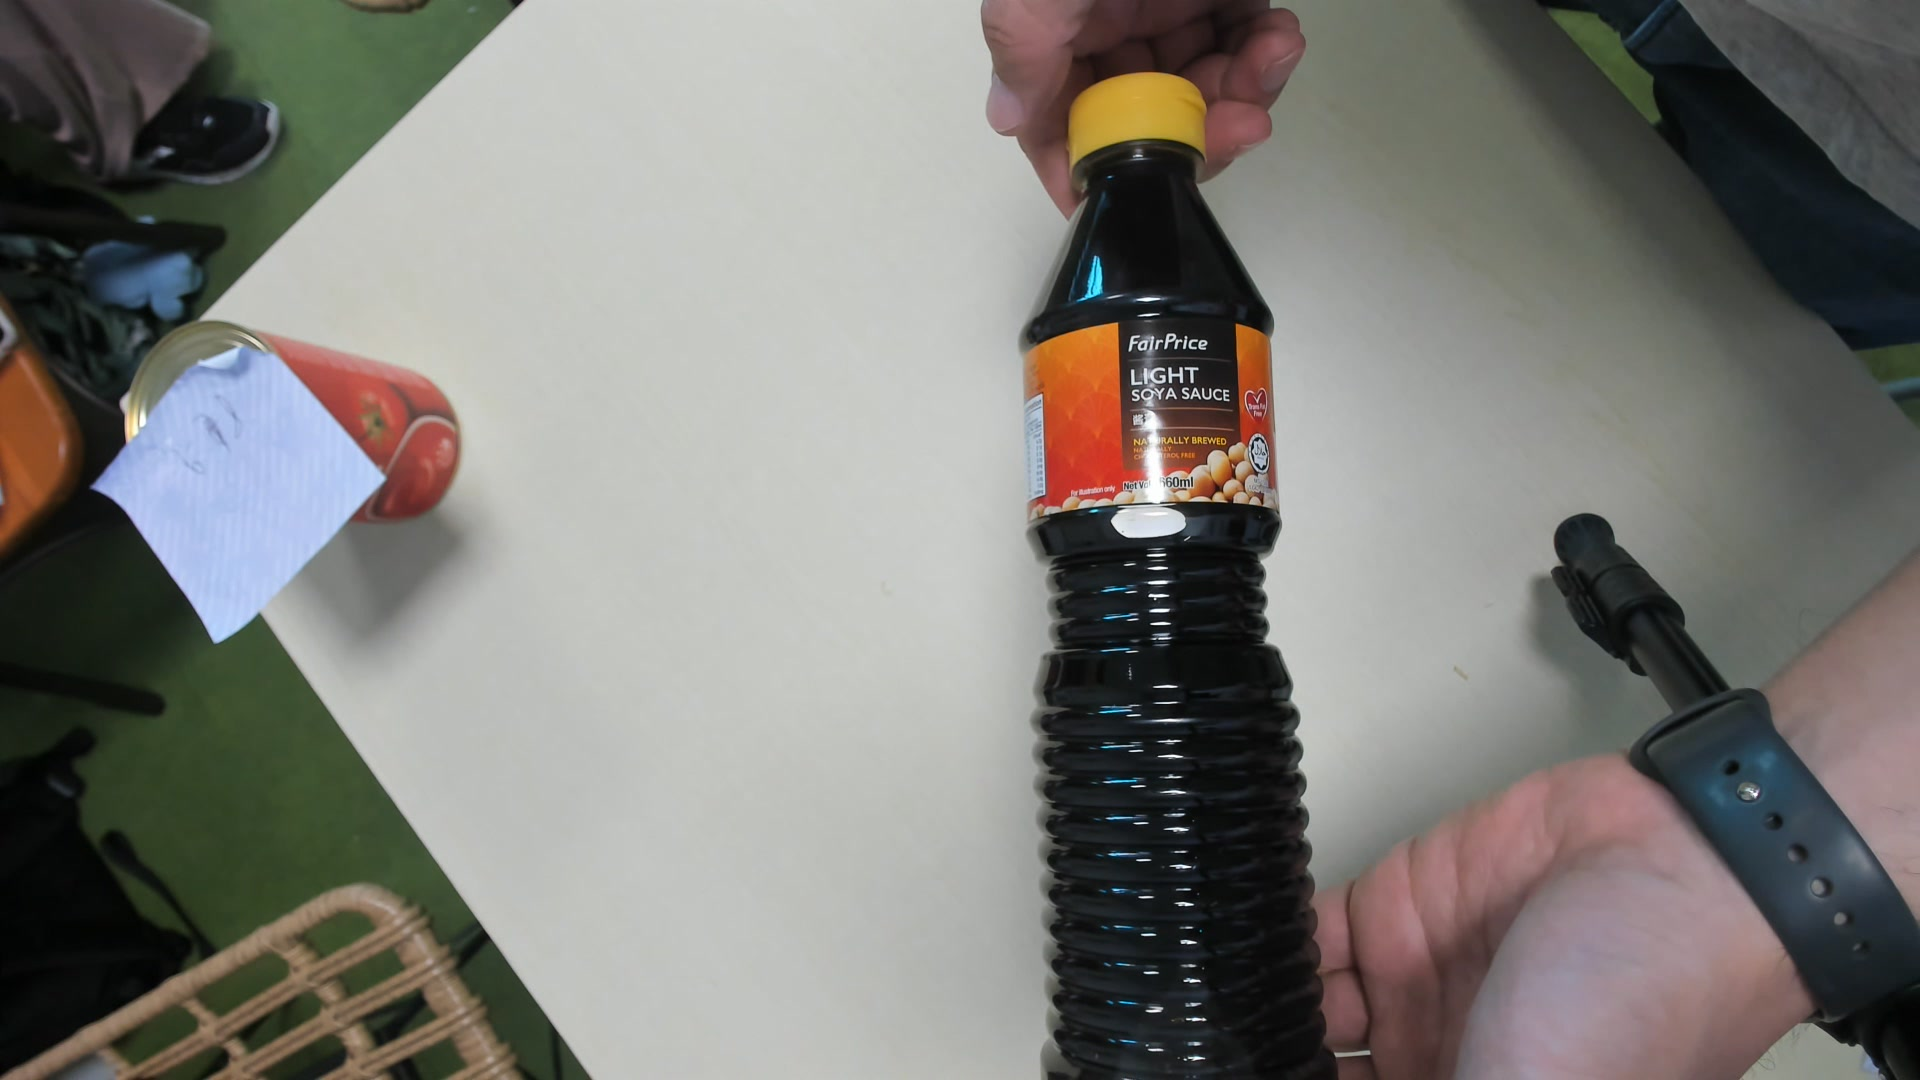OtherSauceDressingSoupbasePaste_600-699g_Halal_NonHealthy: (1017, 70, 1329, 1080)
